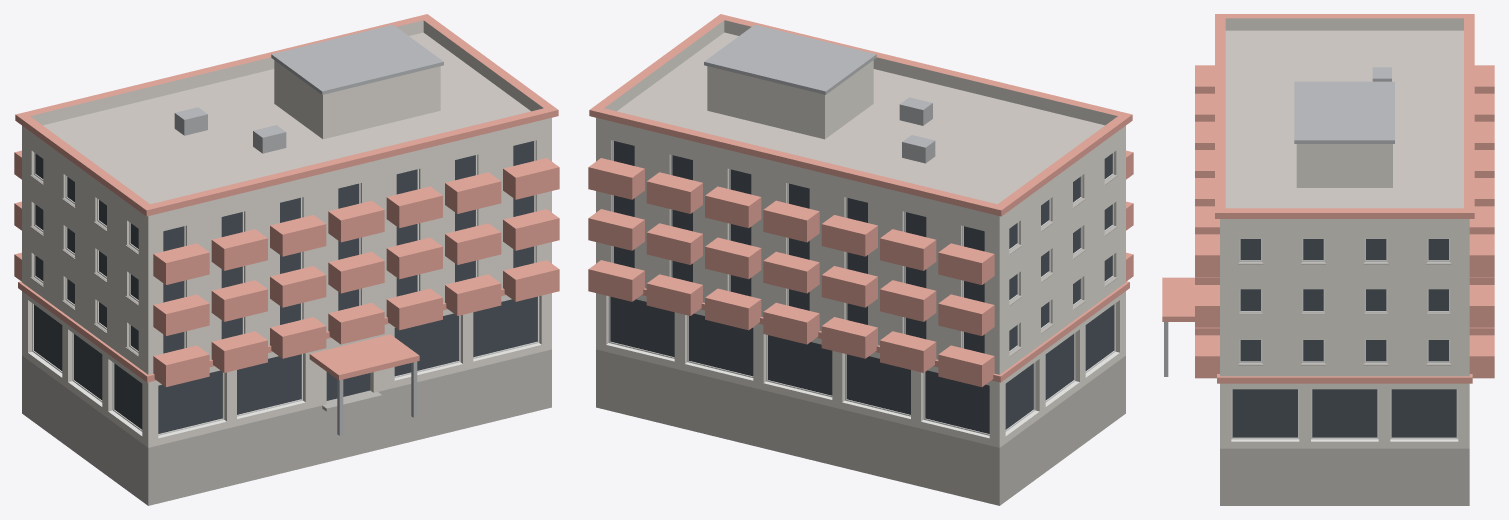
The model's file is hotel_4_m.glb.
The picture shows the model from 3 angles, left to right: view 1: azimuth 30°, elevation 25°; view 2: azimuth 150°, elevation 25°; view 3: azimuth 270°, elevation 25°; orthographic projection.
Visible parts, largest first — view 1: hotel_4_m; view 2: hotel_4_m; view 3: hotel_4_m.
Part boxes in pixels (box(x1,y1,x2,y2)): hotel_4_m: box(14, 14, 559, 505); hotel_4_m: box(588, 14, 1133, 505); hotel_4_m: box(1162, 14, 1494, 505).
Bounding box in the file's own units: 24.5 × 19.05 × 17.3.
